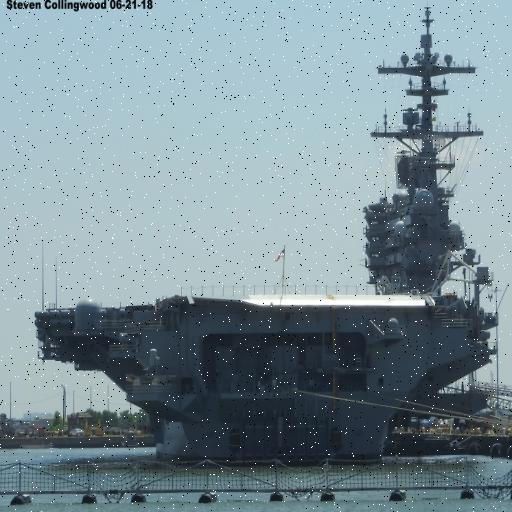Portanaves: (33, 1, 498, 477)
